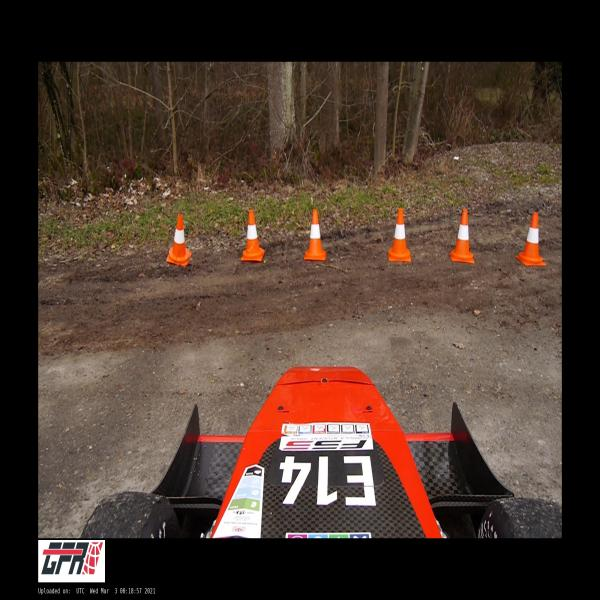orange_cone: (516, 214, 546, 266), (449, 210, 474, 262), (167, 215, 192, 266), (242, 210, 264, 261), (304, 209, 326, 260), (389, 209, 410, 260)
